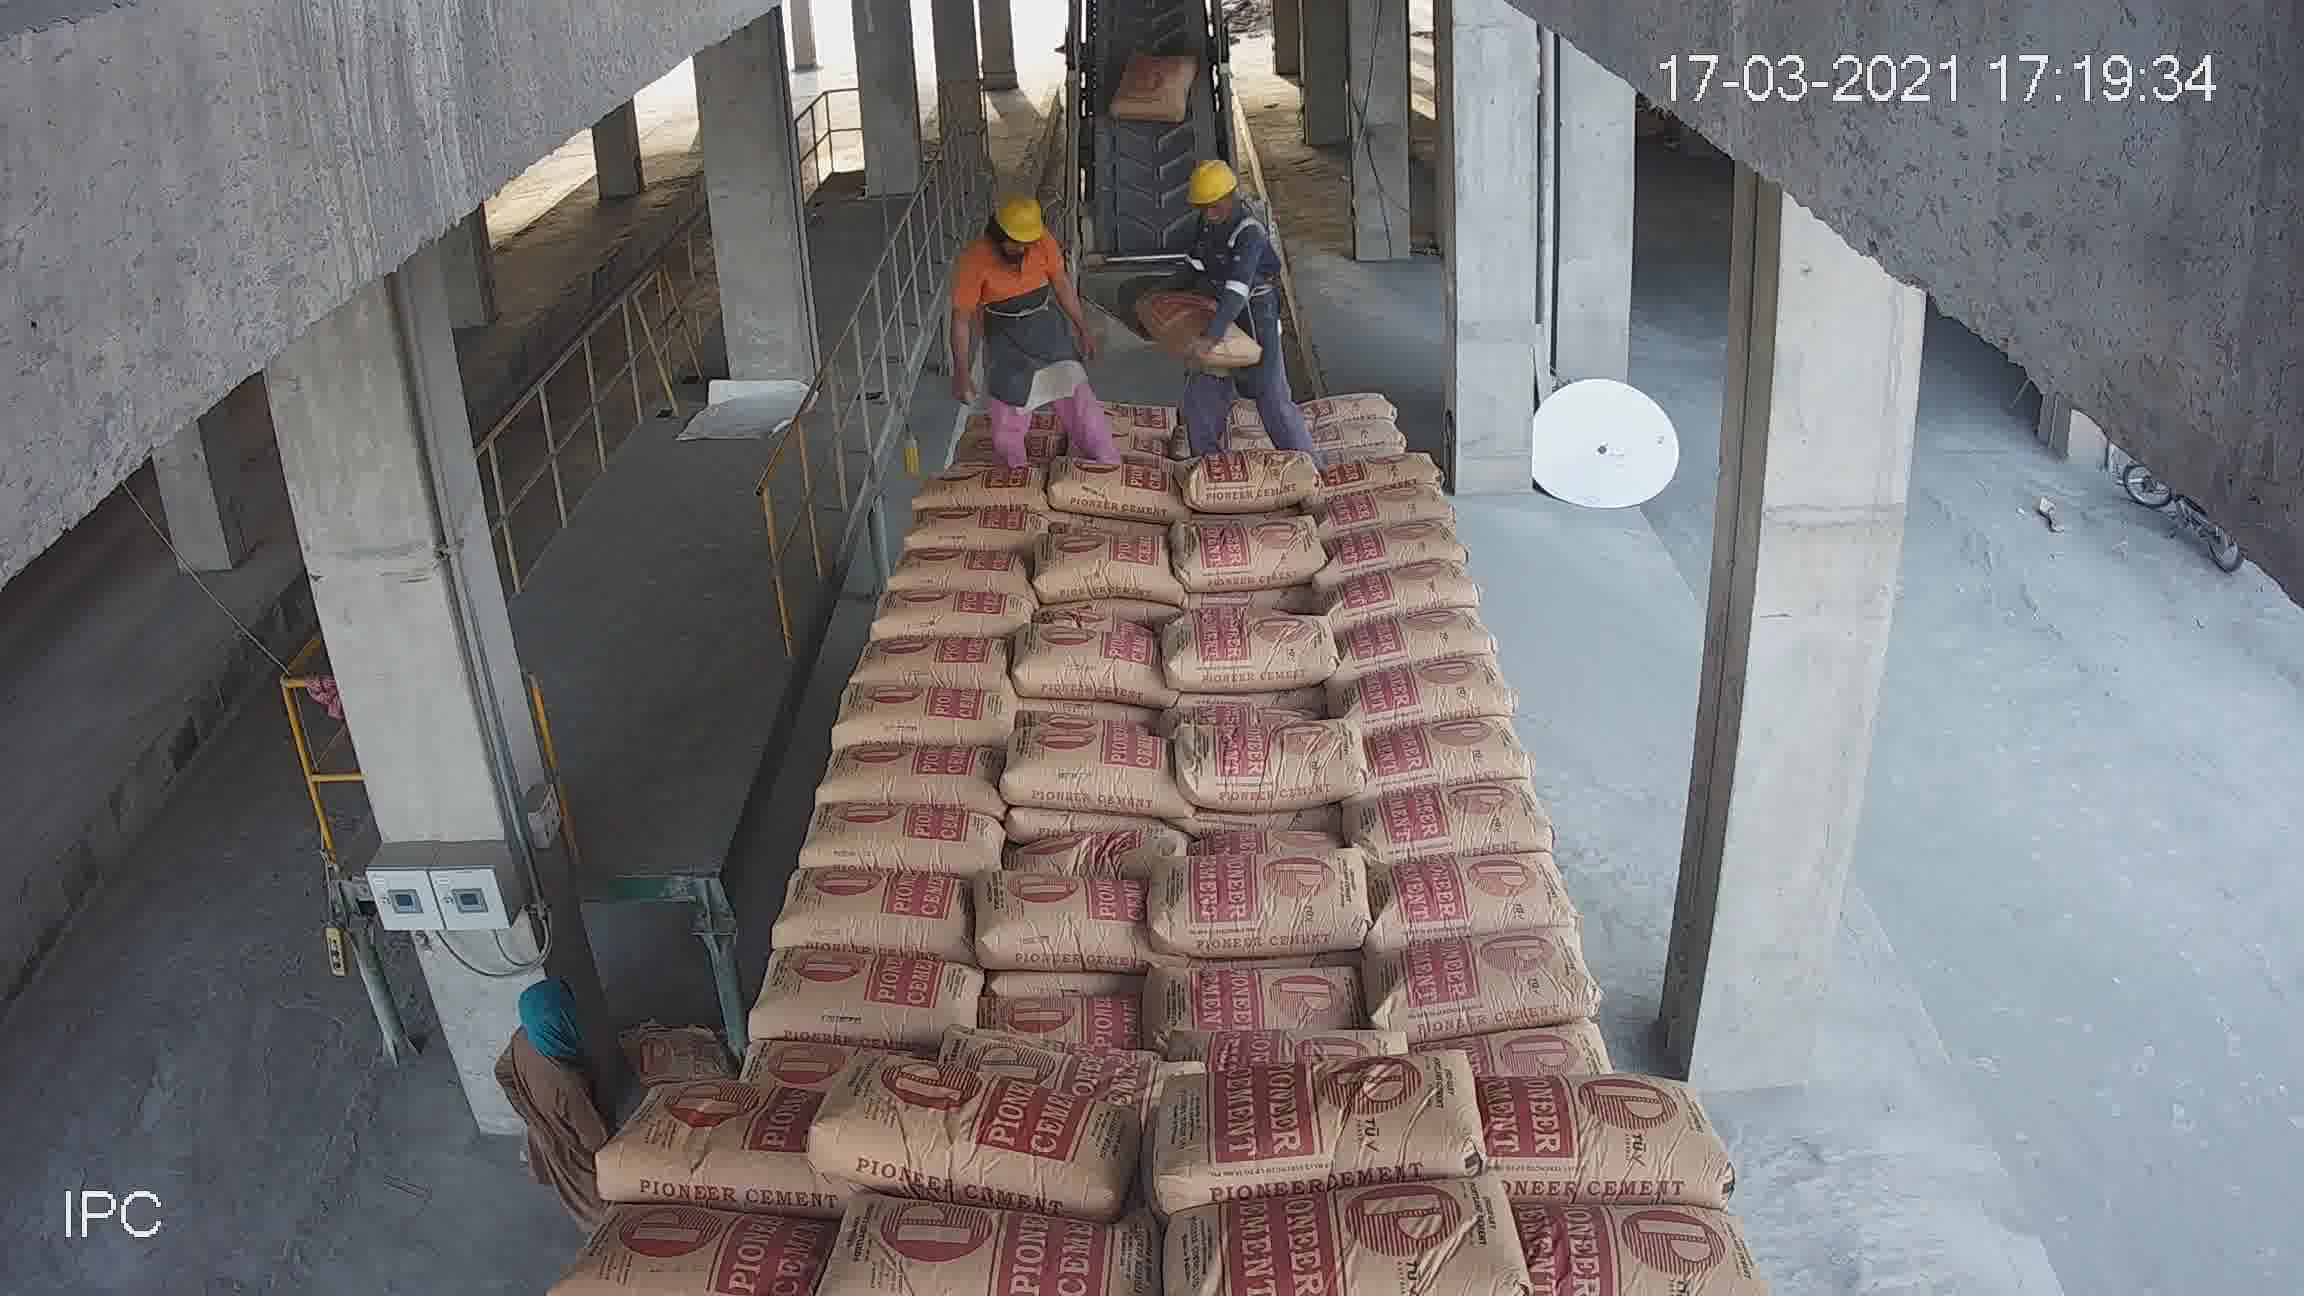bag: (1105, 0, 1184, 44)
bag_h: (1152, 1036, 1486, 1196), (804, 1079, 1160, 1204), (1165, 1163, 1516, 1285), (1481, 1079, 1761, 1193), (1358, 927, 1622, 1033), (538, 1195, 839, 1279), (1147, 842, 1359, 959), (571, 1087, 802, 1193), (1530, 1198, 1771, 1296), (1366, 853, 1568, 954), (855, 1225, 1155, 1291), (723, 964, 991, 1038), (752, 870, 976, 956), (1355, 775, 1563, 858), (1351, 703, 1538, 788), (793, 802, 1008, 873), (1196, 729, 1385, 810), (904, 1043, 1214, 1090), (1163, 956, 1340, 1035), (1003, 733, 1188, 807), (802, 741, 991, 813), (984, 875, 1154, 956), (1339, 595, 1503, 677), (1339, 658, 1527, 723), (1003, 677, 1187, 744), (1190, 612, 1332, 695), (1025, 817, 1188, 885), (1476, 1013, 1617, 1090), (829, 693, 986, 753), (1336, 555, 1483, 614), (1321, 483, 1457, 543), (851, 641, 1003, 692), (1030, 571, 1177, 620), (1332, 527, 1476, 576), (1000, 989, 1124, 1046), (1323, 441, 1446, 495), (1016, 631, 1173, 673), (1305, 407, 1432, 457), (850, 597, 976, 638), (1312, 366, 1426, 410), (1302, 348, 1404, 377), (1321, 313, 1383, 354)
bag_v: (1127, 283, 1209, 415)
belt: (1036, 24, 1272, 369)
